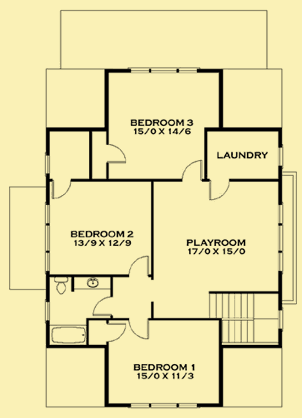door: (126, 313, 154, 342), (124, 252, 151, 280), (180, 157, 204, 186), (101, 140, 127, 166), (104, 319, 130, 344), (50, 174, 74, 201), (209, 176, 233, 202), (90, 294, 114, 319)
large sink: (51, 274, 70, 300)
sink: (69, 275, 111, 291)
stairs: (206, 286, 283, 351)
tub: (47, 322, 90, 348)
windows: (274, 201, 287, 276), (41, 201, 54, 275), (123, 64, 202, 76), (126, 401, 200, 413), (275, 145, 287, 172), (43, 296, 52, 325), (42, 152, 53, 173)
